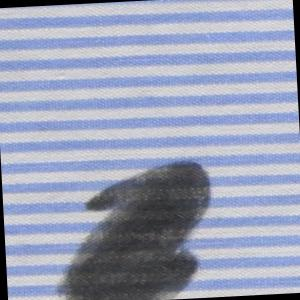Stain: (46, 153, 220, 300)
